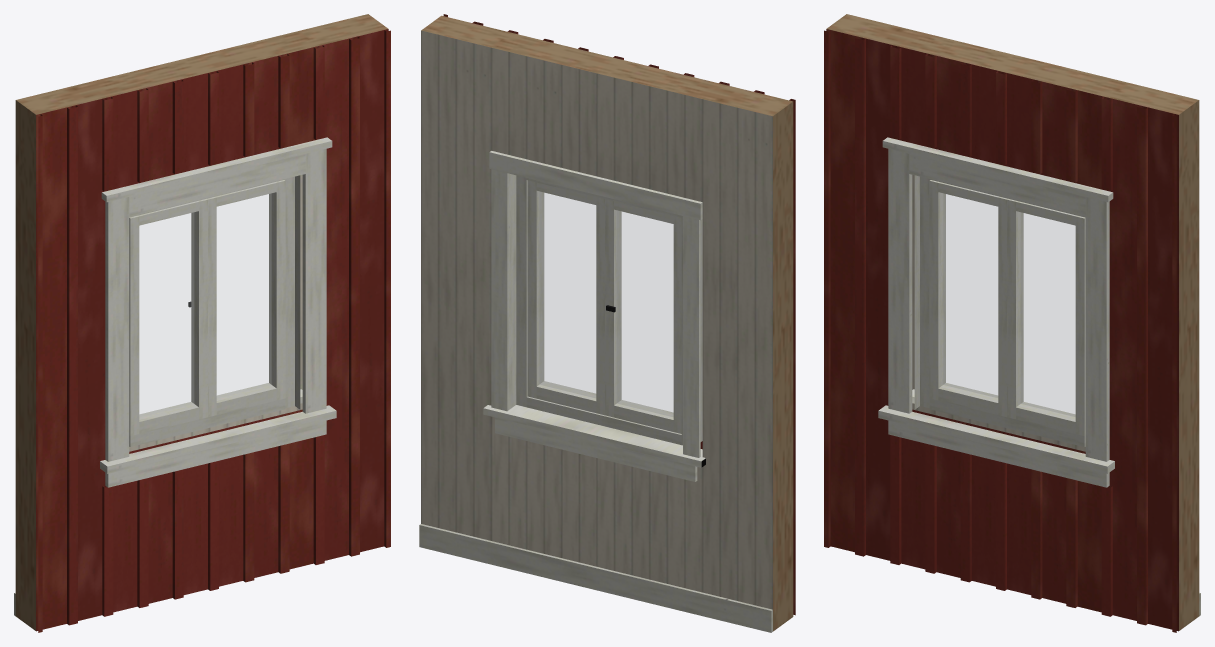
File: nordic-house-wall-window.glb
3 renders of one model, left to right at view 1: azimuth 30°, elevation 25°; view 2: azimuth 150°, elevation 25°; view 3: azimuth 330°, elevation 25°, orthographic.
Parts seen in each view (by area): view 1: wall_window, wall_window_glass; view 2: wall_window, wall_window_glass; view 3: wall_window, wall_window_glass.
Boxes of the visible parts, left/top/right/bottom form: wall_window: left=14, top=14, right=390, bottom=632; wall_window_glass: left=139, top=194, right=271, bottom=416; wall_window: left=419, top=14, right=795, bottom=632; wall_window_glass: left=539, top=192, right=673, bottom=416; wall_window: left=824, top=14, right=1200, bottom=632; wall_window_glass: left=943, top=194, right=1075, bottom=416.
Bounding box in the file's own units: 2 × 2.8 × 0.3401.
Materials: 2 (1 with a texture image).
